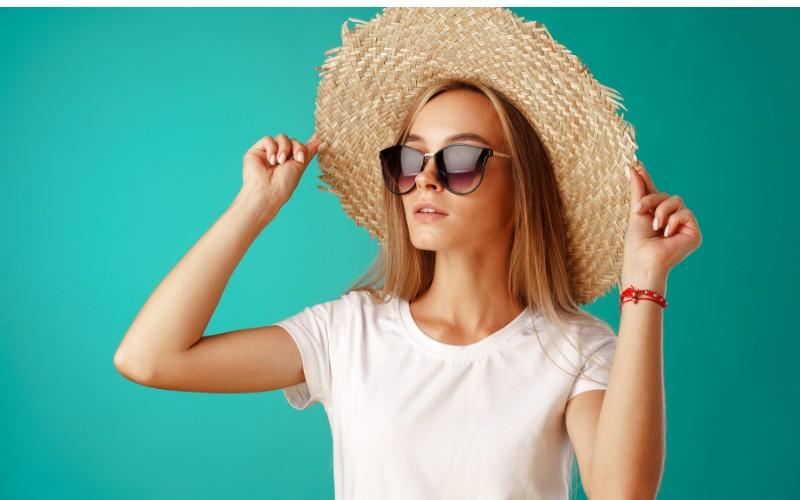cap: (286, 0, 665, 312)
sunglasses: (376, 140, 489, 193)
